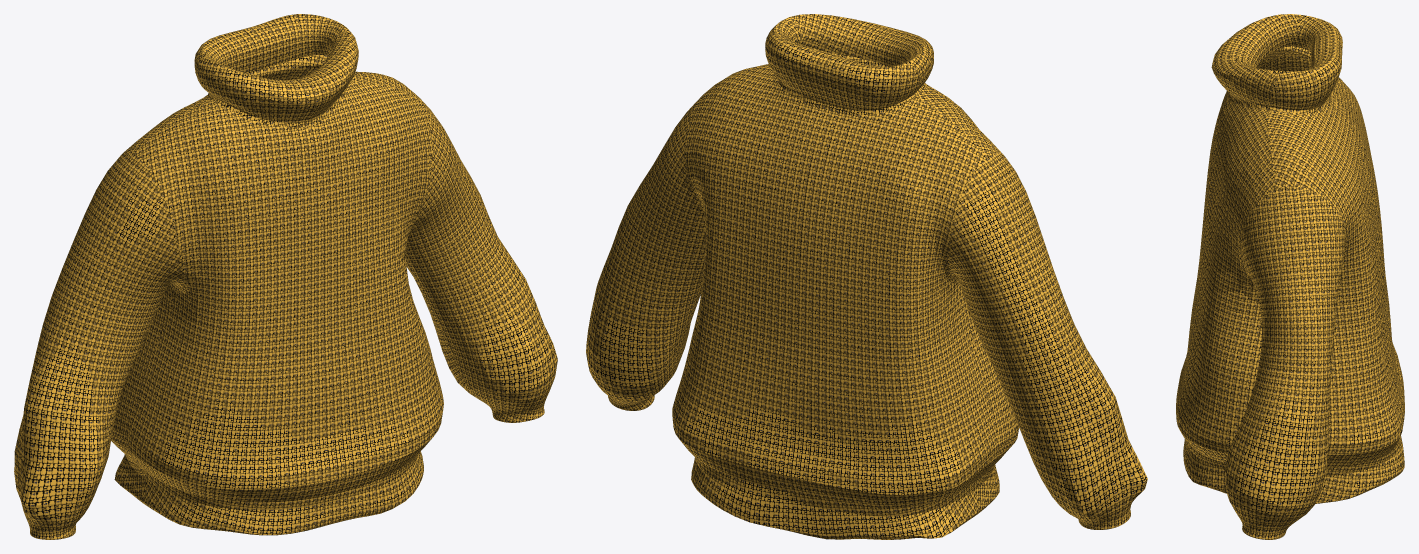
The model's file is jacket.glb.
The picture shows the model from 3 angles, left to right: view 1: azimuth 30°, elevation 25°; view 2: azimuth 150°, elevation 25°; view 3: azimuth 270°, elevation 25°; orthographic projection. The views are drawn at different scales.
Parts seen in each view (by area): view 1: Cube; view 2: Cube; view 3: Cube.
Boxes of the visible parts, bbox=[...] form: Cube: bbox=[14, 14, 557, 539]; Cube: bbox=[586, 14, 1147, 539]; Cube: bbox=[1176, 14, 1404, 539].
Size of the model in its own units: 5.75 by 4.54 by 2.3.
1 material, 1 textured.
